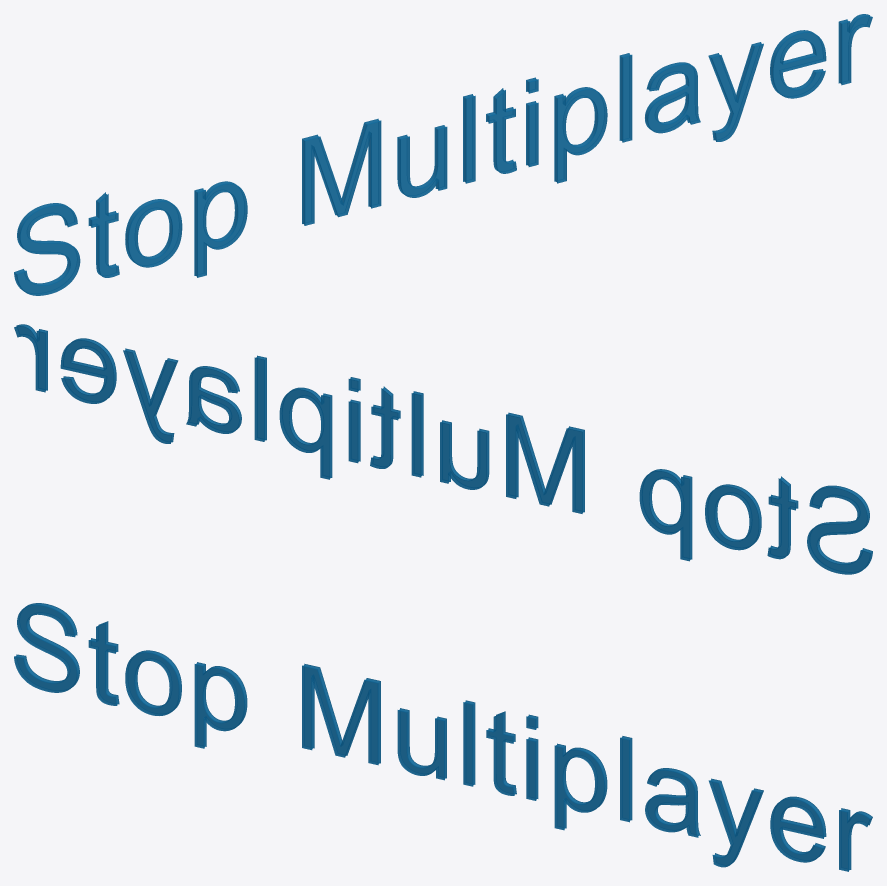
Rendered from Stop_Multiplayer_Menu.FBX.
The picture shows the model from 3 angles, top to bottom: view 1: azimuth 30°, elevation 25°; view 2: azimuth 150°, elevation 25°; view 3: azimuth 330°, elevation 25°; orthographic projection. The views are drawn at different scales.
Parts seen in each view (by area): view 1: TextPlus011; view 2: TextPlus011; view 3: TextPlus011.
Part boxes in pixels (x1,y1,x2,y2): TextPlus011: [14, 14, 872, 295]; TextPlus011: [14, 324, 872, 574]; TextPlus011: [14, 603, 872, 871].
Bounding box in the file's own units: 40.4 × 4.96 × 1.5.
